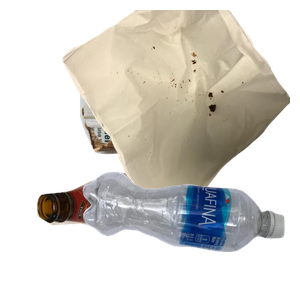cardboard: (77, 79, 251, 227)
glass: (34, 170, 223, 300)
plastic: (80, 169, 300, 300)
trash: (60, 10, 300, 190)
